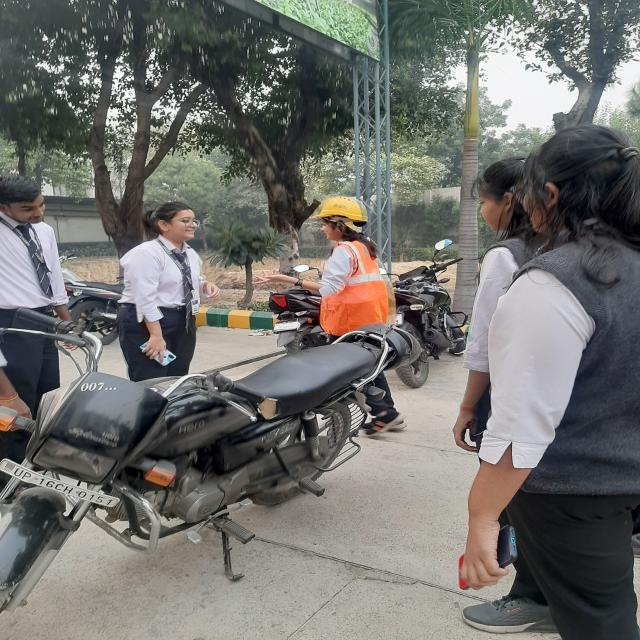safe: (308, 199, 404, 446)
unsafe: (497, 130, 640, 640), (0, 165, 87, 408), (118, 188, 208, 382)
